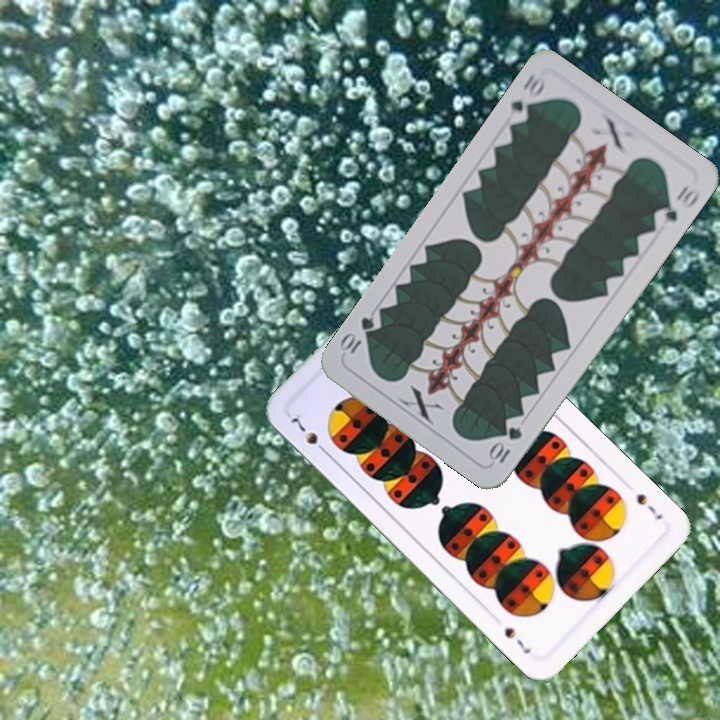G10: (503, 69, 548, 127), (484, 422, 525, 468)
S7: (284, 409, 331, 458), (632, 489, 666, 523)
